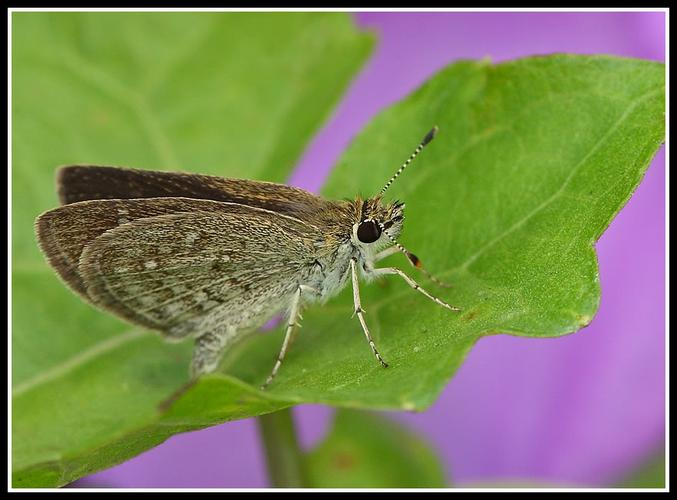Hesperiidae: (30, 117, 461, 398)
